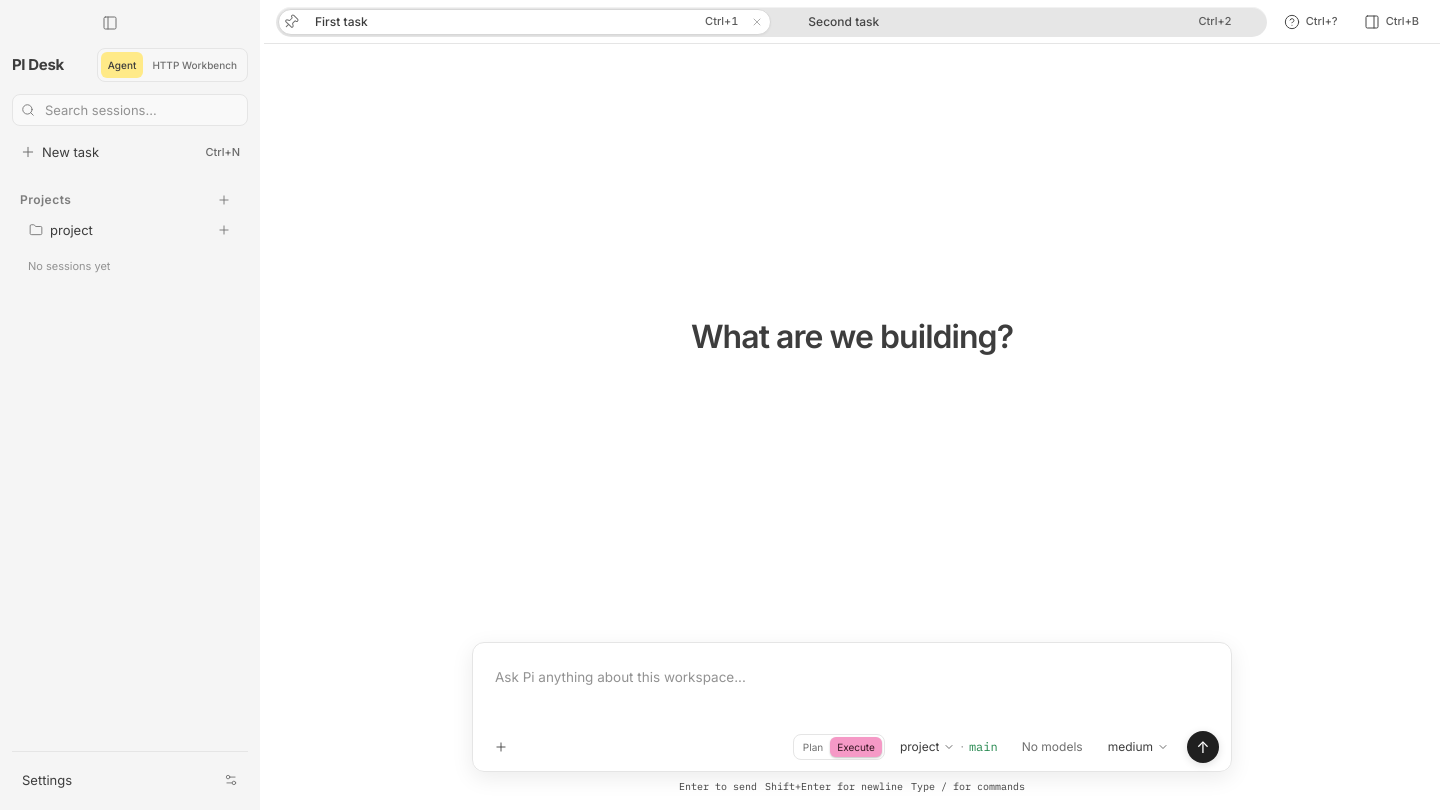
Test: Pi Desktop end-to-end send flow › closing the active tab opens its neighbor without copying the closed session onto it
Click the button named "Close First task": (756, 22) [745, 10, 767, 32]
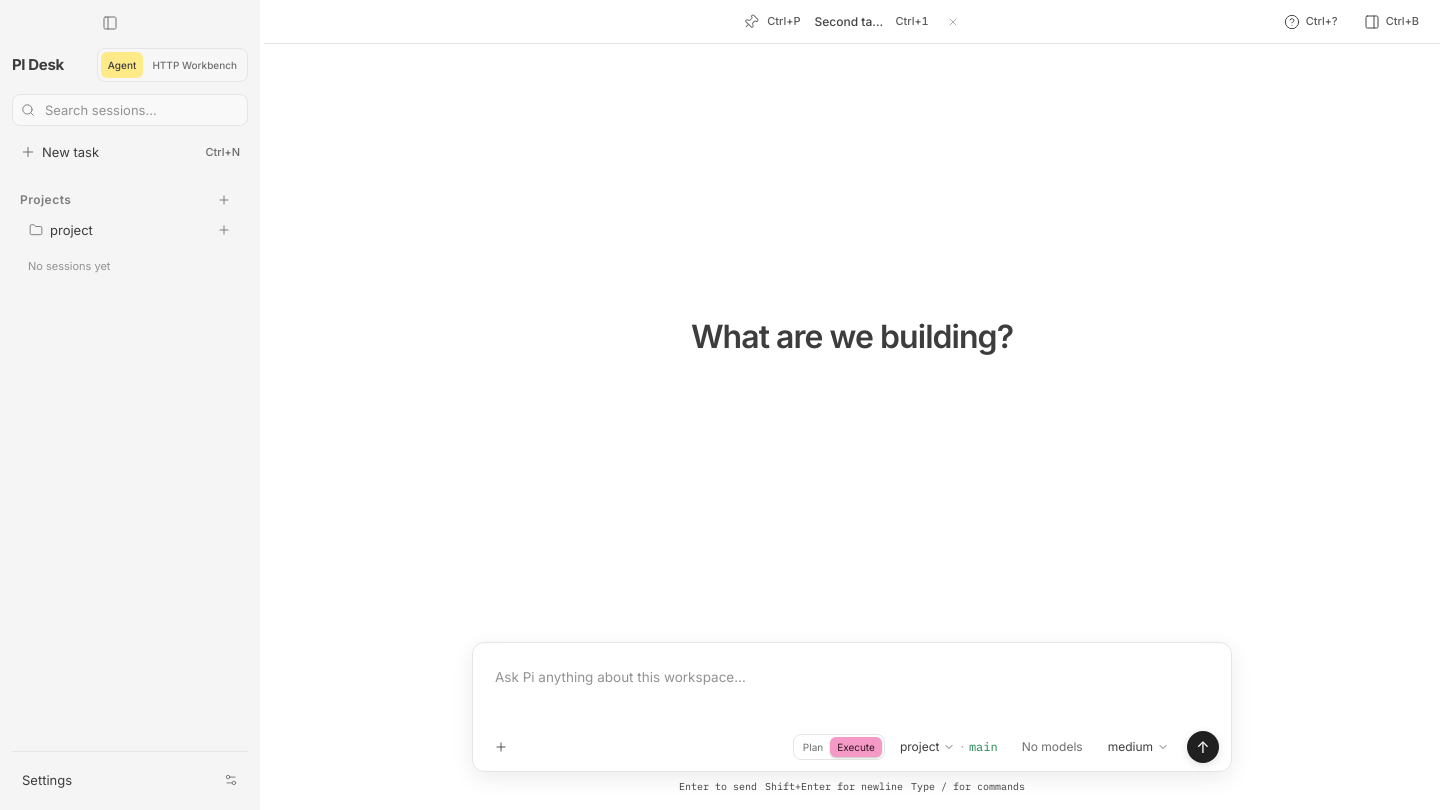
Expected: the text "Second task" is shown, [814, 14, 884, 30]
Expected: the button "First task" is gone
